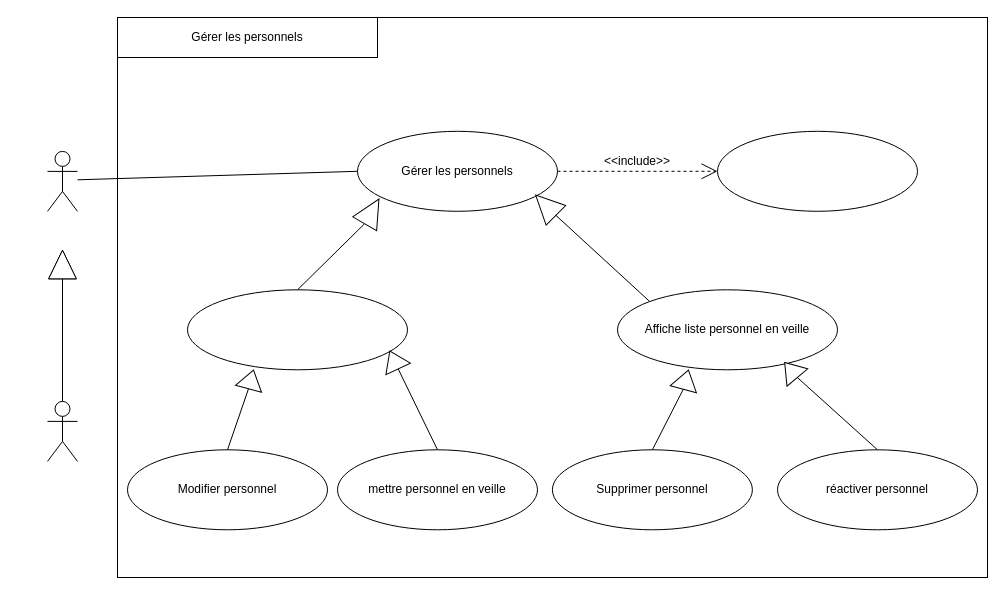
This 1005x595 diagram has some shape labels left out. Here are the shapes that lost their labels. From the top down, the box of each, then its label:
(46, 150, 78, 211): Responsable RH
(716, 130, 918, 211): S'authentifier
(186, 289, 408, 370): Affiche liste personnels
(46, 400, 78, 461): administrateur
